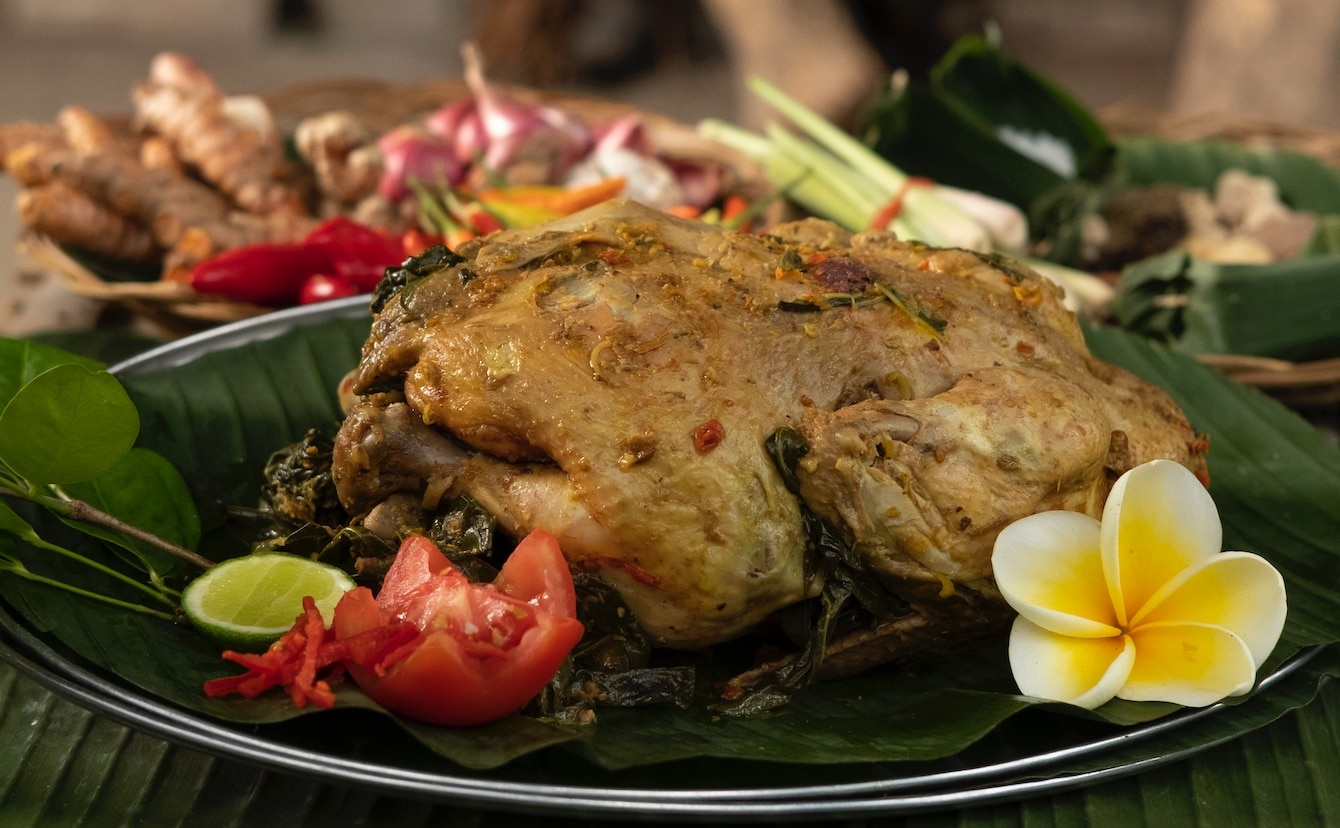ayam_betutu: (331, 222, 1100, 510)
